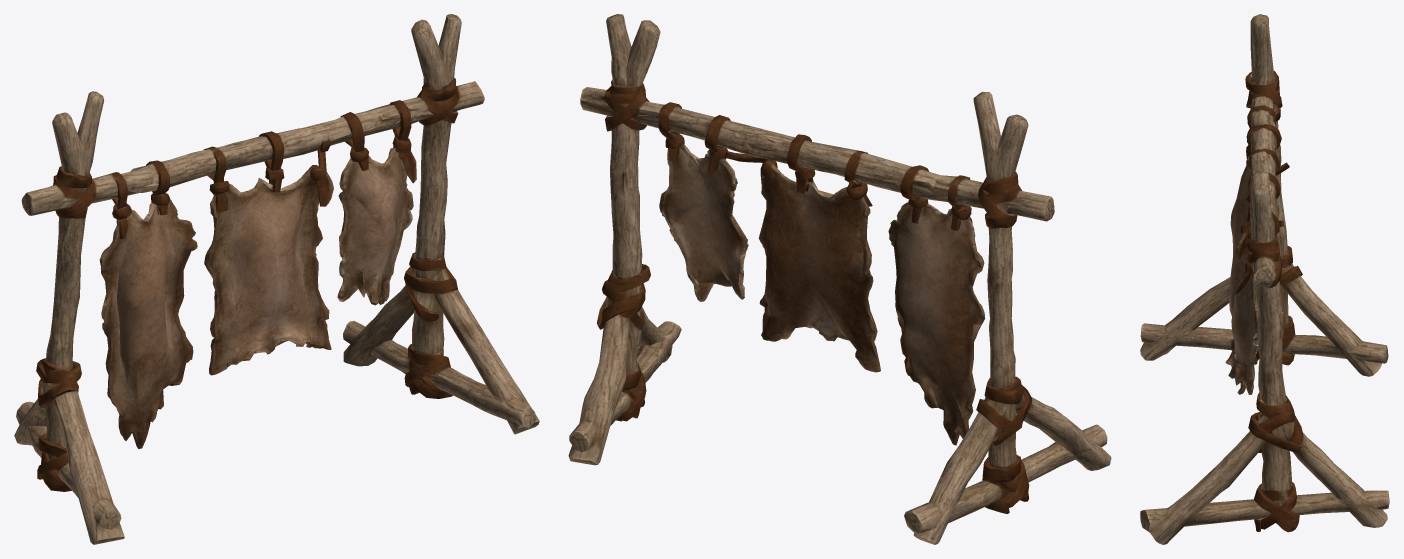
3 views of the same model, side by side, from view 1: azimuth 30°, elevation 25°; view 2: azimuth 150°, elevation 25°; view 3: azimuth 270°, elevation 25° (orthographic). The views are drawn at different scales.
Visible parts, largest first — view 1: drying-rack; view 2: drying-rack; view 3: drying-rack.
Part boxes in pixels (left/top/right/bottom): drying-rack: left=14, top=14, right=539, bottom=544; drying-rack: left=568, top=14, right=1111, bottom=544; drying-rack: left=1140, top=14, right=1389, bottom=544.
Size of the model in its own units: 2.89 by 2.4 by 1.5.
Materials: 1 (1 with a texture image).
